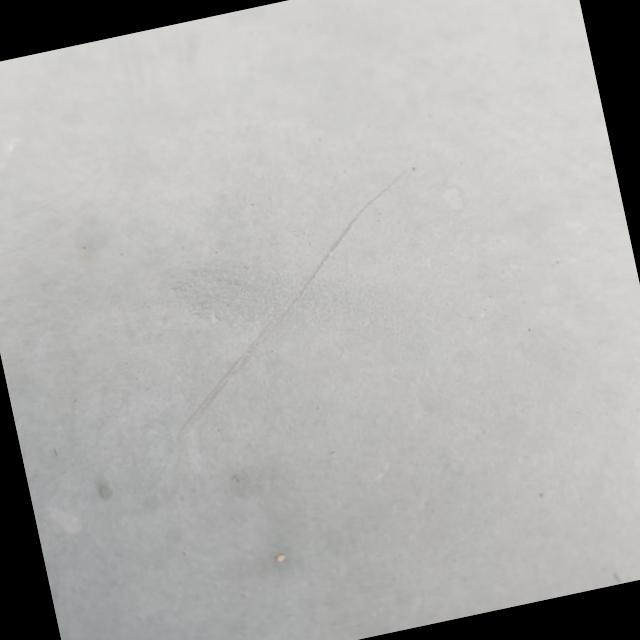scratch: (97, 134, 491, 471)
